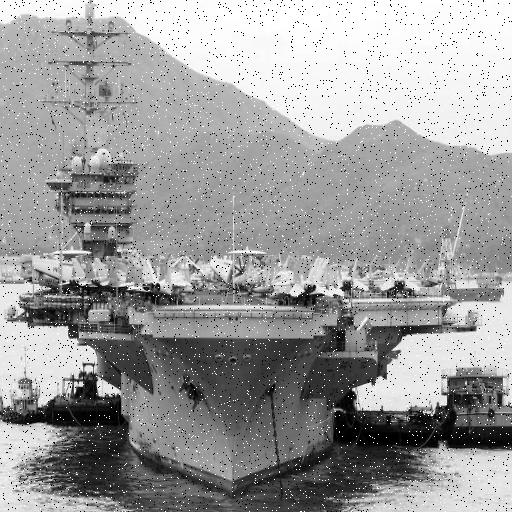Portanaves: (2, 1, 484, 501)
